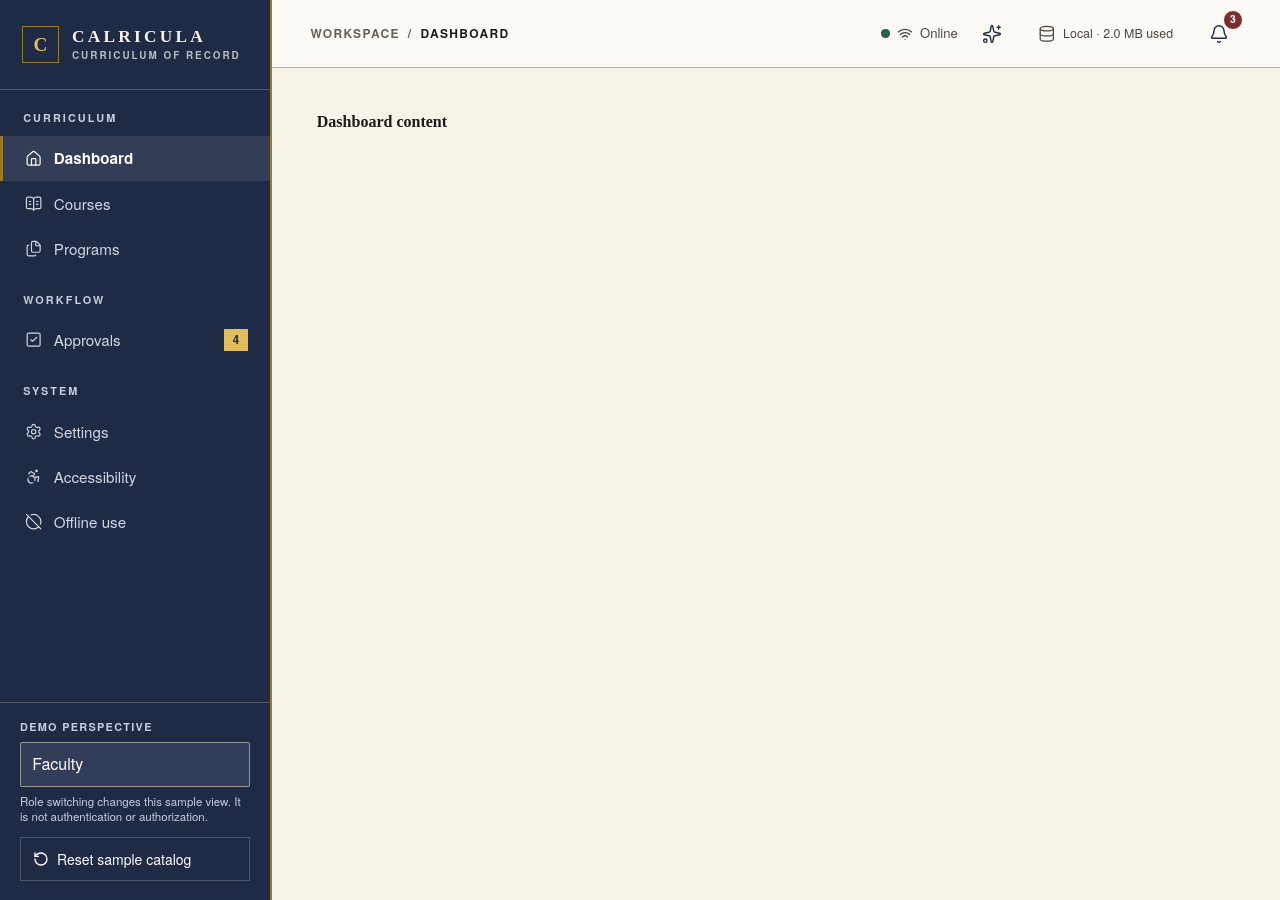
Test: AppShell › switches demo perspective without implying authentication
Expected: the text "It is not authentication or authorization" is shown, [20, 793, 241, 824]
Select "Department chair" in the dropdown labelled "Demo perspective". click: (135, 764)
box: [20, 742, 250, 787]
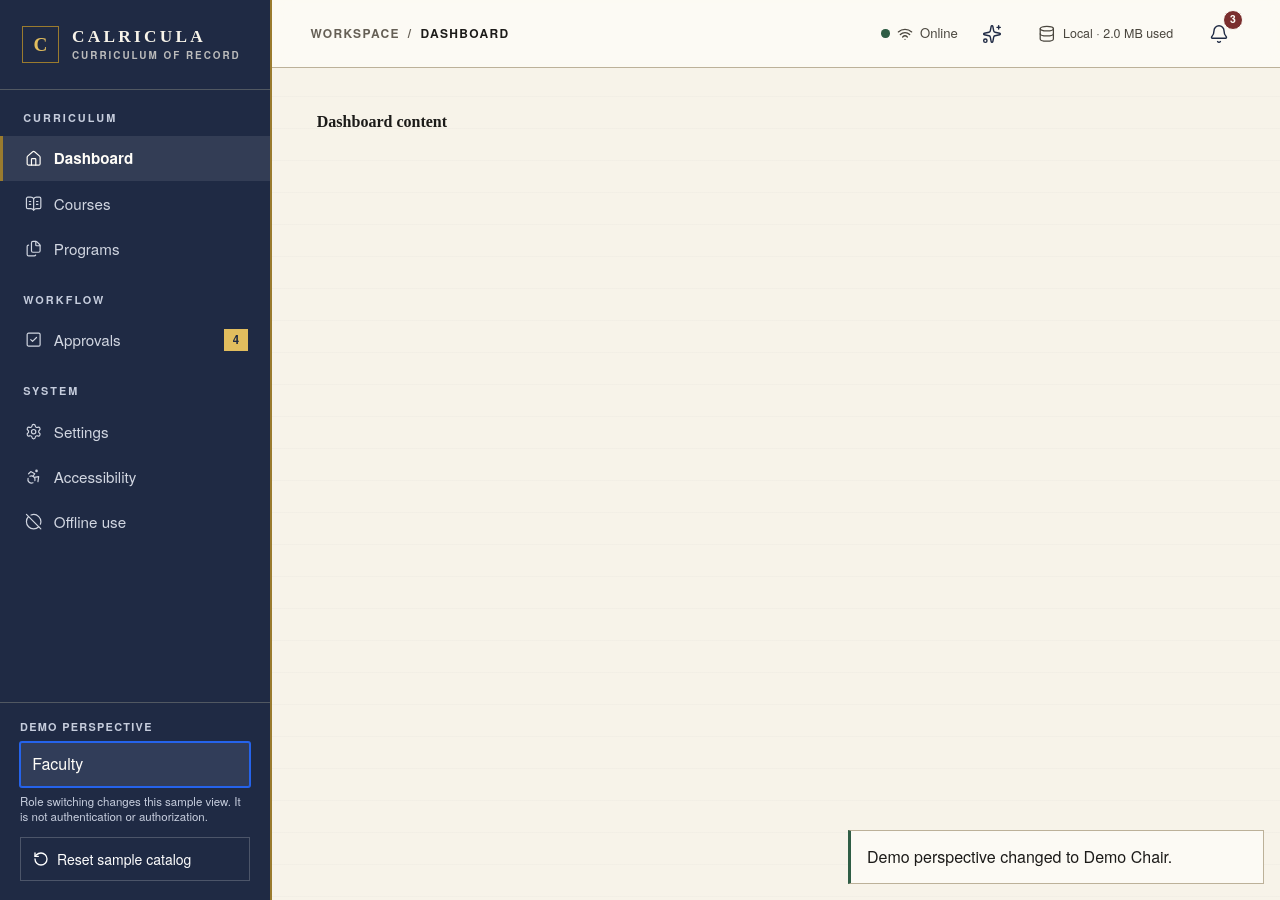
Result: the text "Demo perspective changed to Demo Chair." is shown at [848, 830, 1264, 884]
